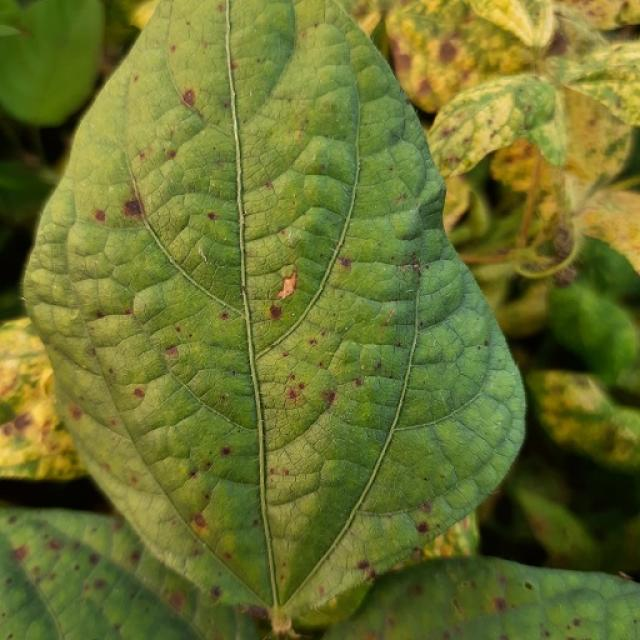Anthracnose: (113, 186, 150, 226), (269, 269, 299, 311), (544, 26, 572, 59), (180, 88, 206, 122), (550, 224, 575, 257), (551, 264, 578, 289), (438, 39, 460, 63), (270, 614, 293, 636), (11, 411, 33, 432), (393, 50, 411, 73), (415, 78, 433, 98), (168, 590, 185, 611), (247, 604, 268, 619), (12, 544, 28, 563), (269, 466, 291, 478), (452, 599, 465, 619), (68, 404, 83, 421), (182, 89, 196, 107), (383, 307, 395, 326), (193, 513, 207, 529), (440, 125, 456, 139), (269, 305, 283, 320), (416, 521, 430, 534), (338, 256, 352, 269), (494, 597, 507, 611), (411, 547, 423, 562), (93, 209, 106, 222), (93, 578, 107, 590), (325, 390, 336, 405), (366, 567, 377, 581), (445, 156, 459, 167), (412, 260, 422, 275), (164, 345, 176, 357), (286, 388, 298, 400), (88, 553, 100, 565), (357, 559, 370, 570), (421, 501, 433, 512), (133, 387, 145, 398), (166, 149, 177, 160), (211, 586, 221, 598), (618, 571, 631, 580), (354, 377, 364, 387), (524, 581, 534, 591), (207, 212, 218, 221), (221, 447, 232, 456), (262, 181, 273, 190), (219, 311, 229, 320), (572, 617, 581, 627), (231, 61, 239, 71), (308, 338, 317, 346), (123, 308, 132, 316), (189, 470, 197, 479), (96, 311, 105, 319), (217, 3, 225, 12), (318, 586, 324, 596), (298, 382, 305, 390), (289, 373, 296, 381), (223, 102, 230, 110), (170, 44, 176, 53), (282, 351, 289, 358), (483, 339, 489, 347)
Blackgram: (24, 0, 522, 621)
